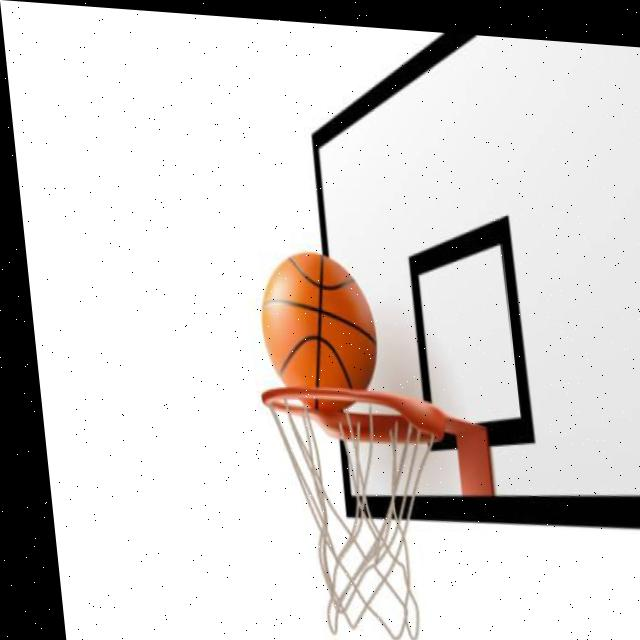basketball: (254, 247, 386, 417)
hoop: (261, 383, 468, 640)
